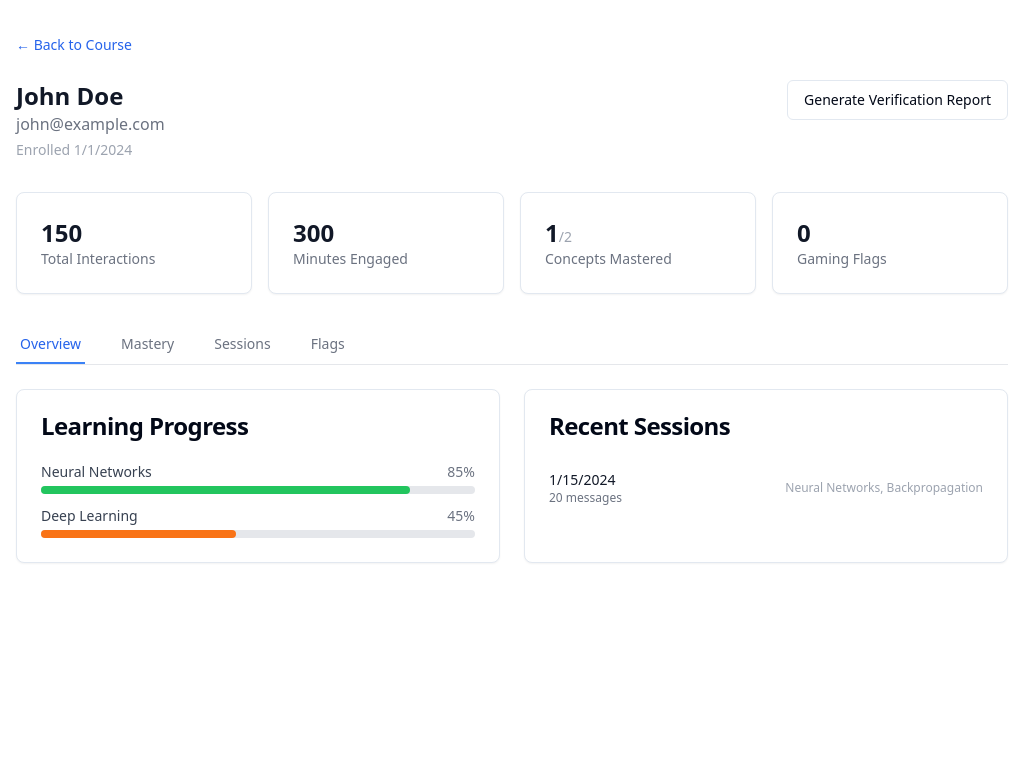
Test: StudentView › flags tab › should show no flags message when empty
Expected: the heading "John Doe" is shown, [16,79,123,112]
Click the button "flags".
click(328, 345)  # box [307,326,349,364]
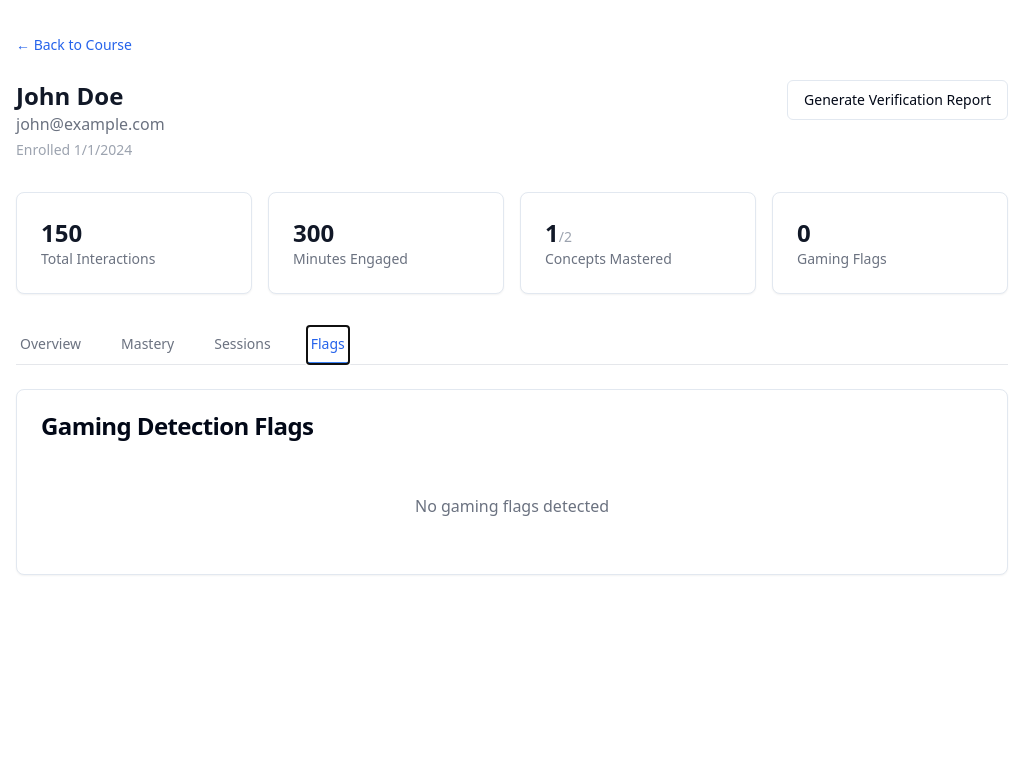
Now the text "No gaming flags detected" is shown, box [415,495,609,517]
